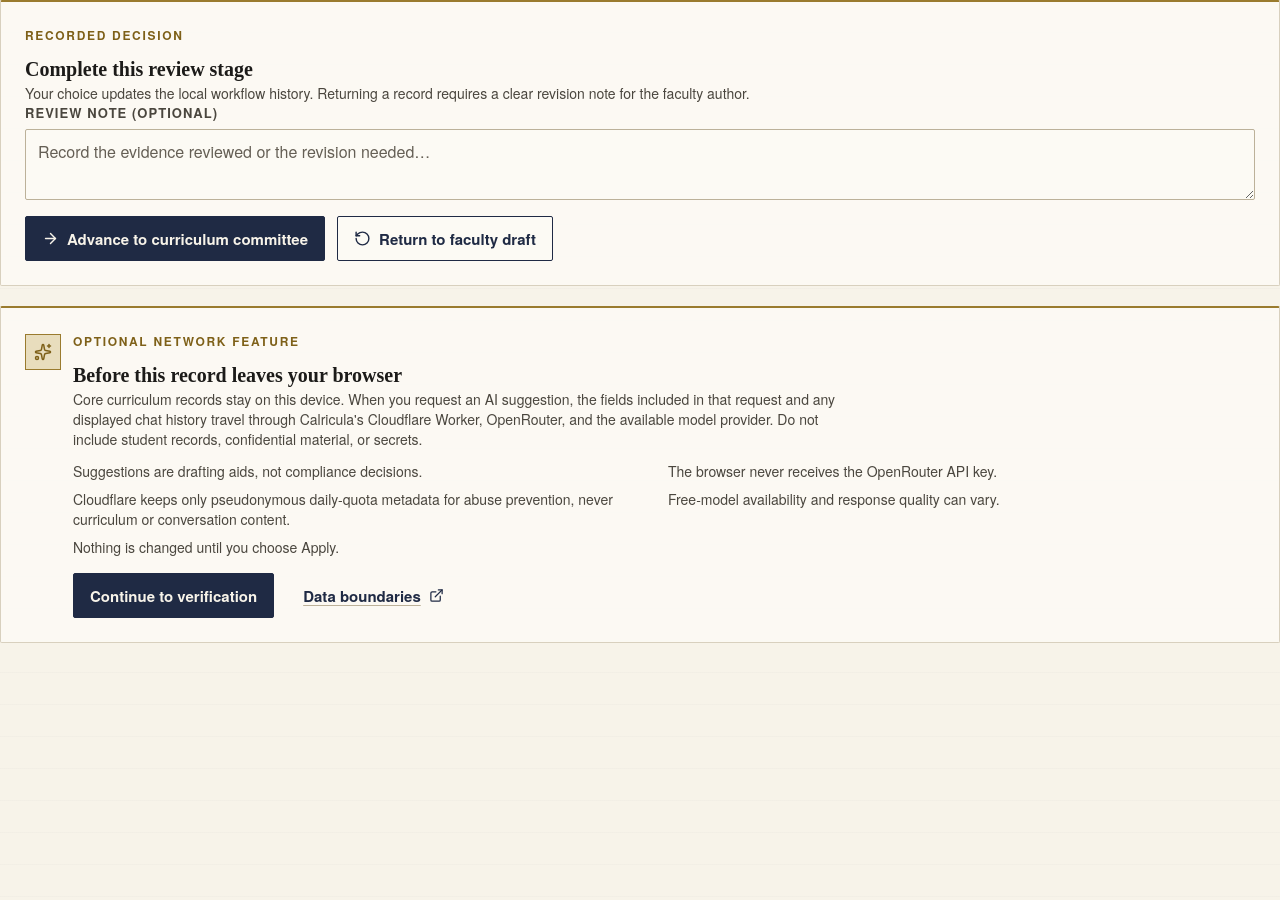
Test: ApprovalActionPanel › surfaces transition failures without completing the review
Click the button "Advance to curriculum committee" at (175, 239), box [25,216,325,261]
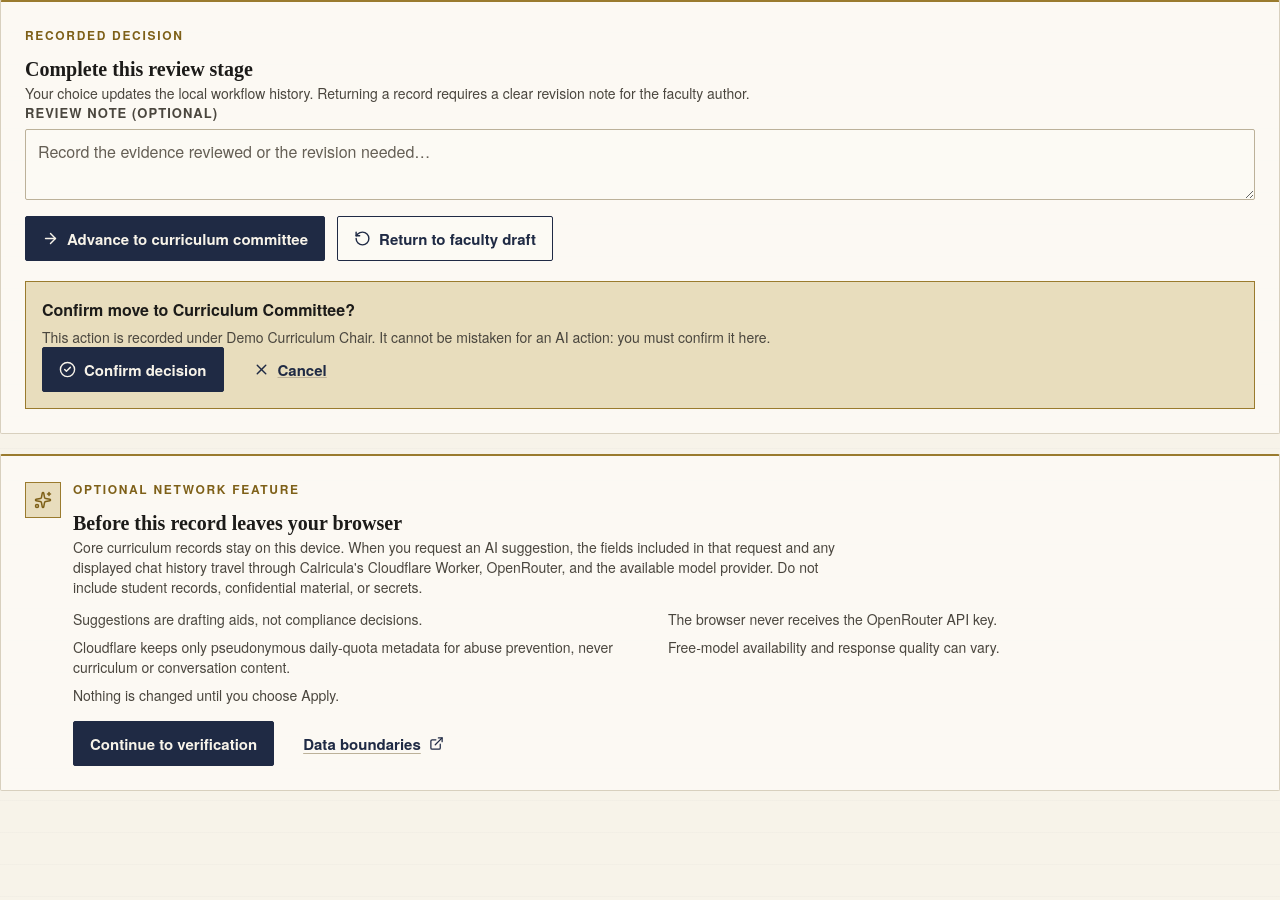
Click the button "Confirm decision" at (133, 370), box [42,347,224,392]
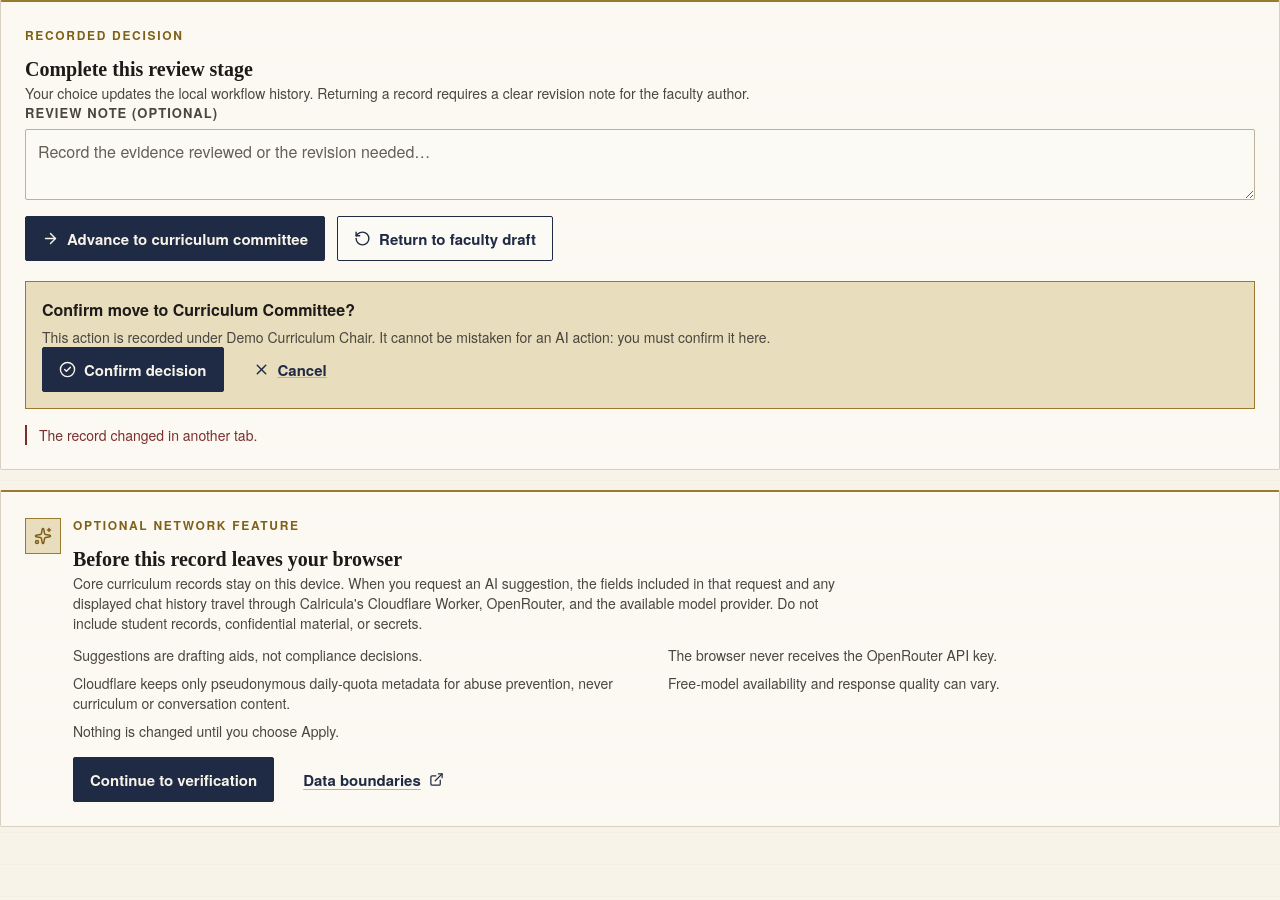
Expected: the message reads "The record changed in another tab.", [39,425,257,445]
